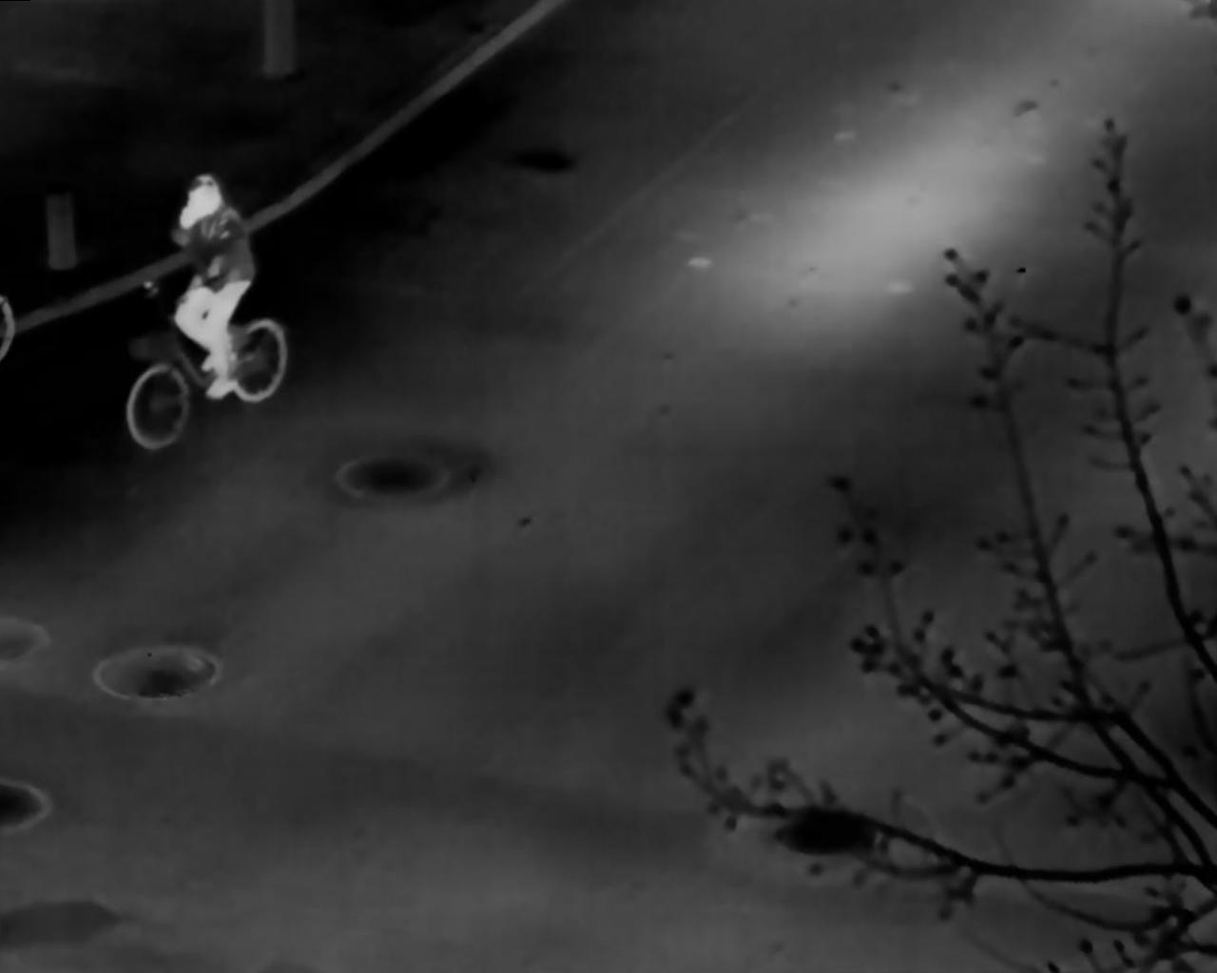person: (171, 173, 254, 401)
